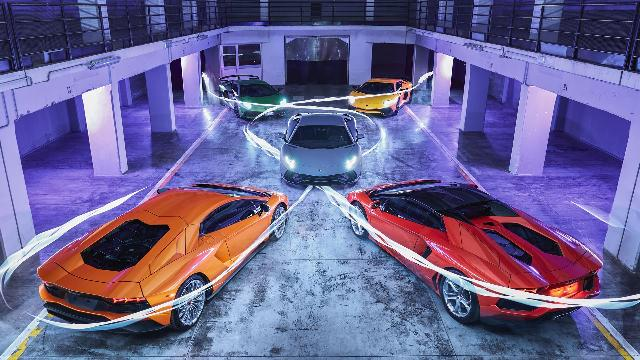lamborghini: (37, 182, 289, 334), (346, 178, 604, 324), (280, 110, 362, 186), (216, 74, 288, 120), (348, 78, 414, 118)
